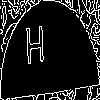H: (25, 25, 46, 74)
